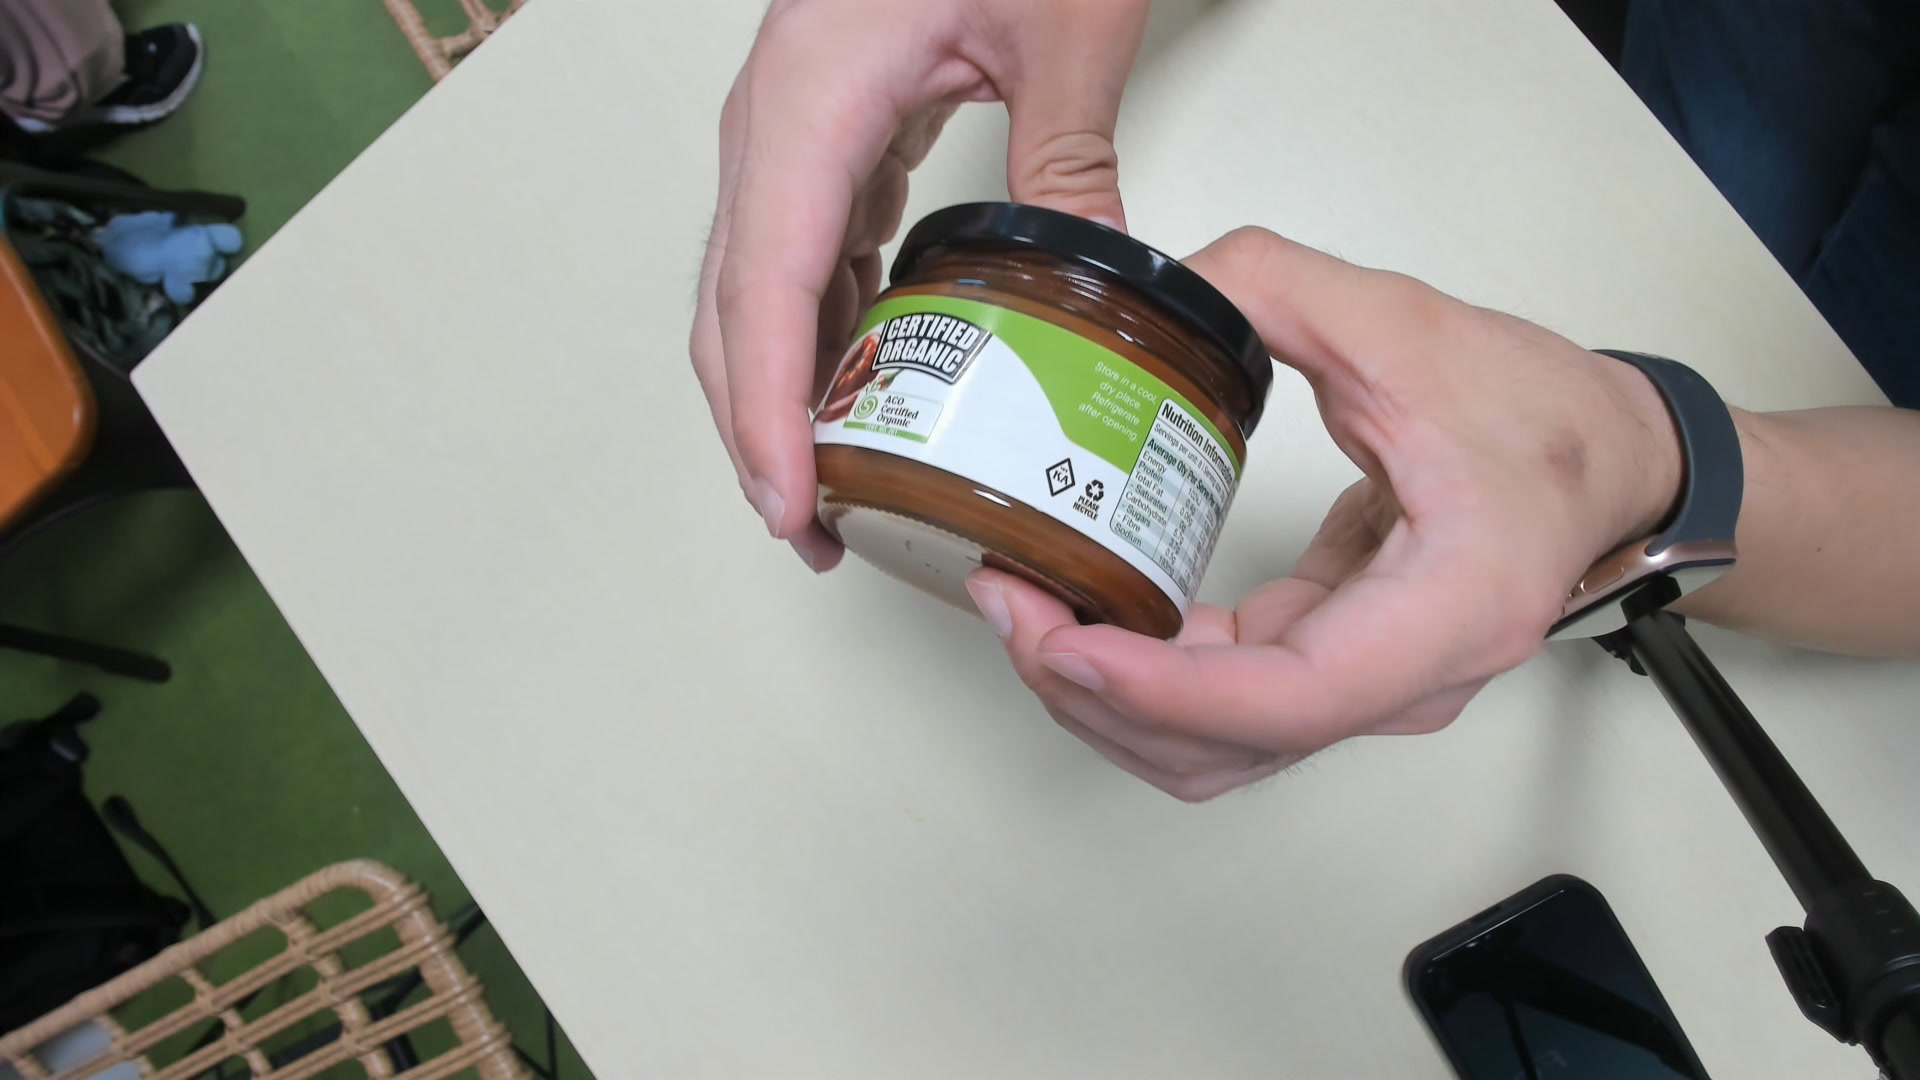OtherSauceDressing_200-299g_NonHalal_NonHealthy: (806, 196, 1263, 634)
